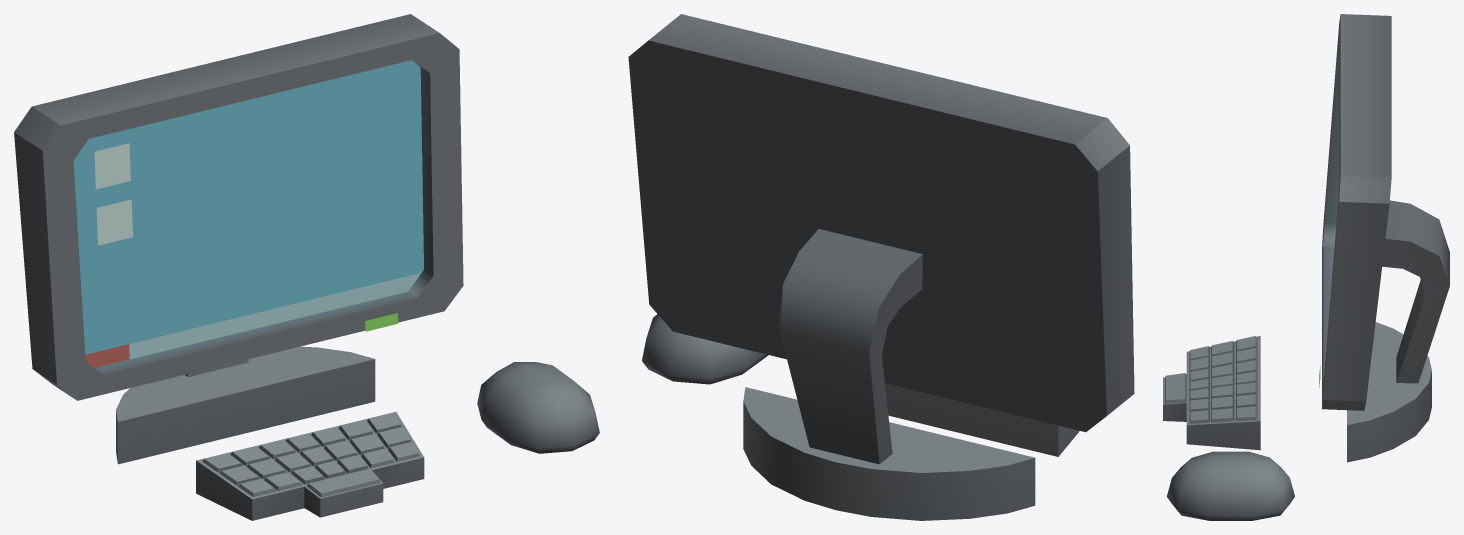
Rendered from GarysComputer_0.glb.
The picture shows the model from 3 angles, left to right: view 1: azimuth 30°, elevation 25°; view 2: azimuth 150°, elevation 25°; view 3: azimuth 270°, elevation 25°; orthographic projection. The views are drawn at different scales.
Visible parts, largest first — view 1: GarysComputer; view 2: GarysComputer; view 3: GarysComputer.
Boxes of the visible parts, bbox=[...] form: GarysComputer: bbox=[14, 14, 599, 520]; GarysComputer: bbox=[628, 14, 1134, 520]; GarysComputer: bbox=[1163, 14, 1449, 520].
Size of the model in its own units: 0.9865 by 0.7021 by 0.5844.
